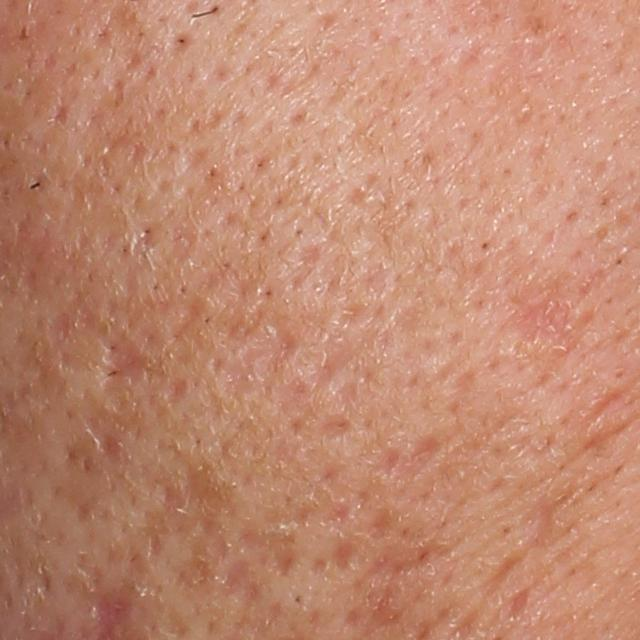atrophic_scar: (145, 463, 239, 602), (46, 296, 155, 403), (215, 317, 297, 414), (242, 522, 302, 579), (378, 434, 440, 483), (285, 235, 327, 302), (484, 545, 530, 595), (166, 294, 208, 343), (324, 533, 357, 577), (158, 377, 192, 414), (316, 415, 354, 445), (369, 507, 397, 540), (506, 588, 529, 622)
